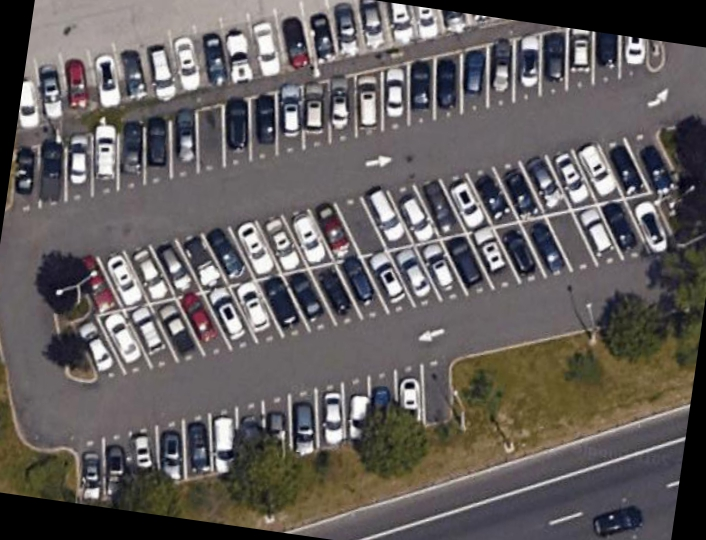parkingspot: (53, 126, 684, 387), (4, 26, 650, 219), (16, 0, 515, 133), (73, 353, 455, 506)
